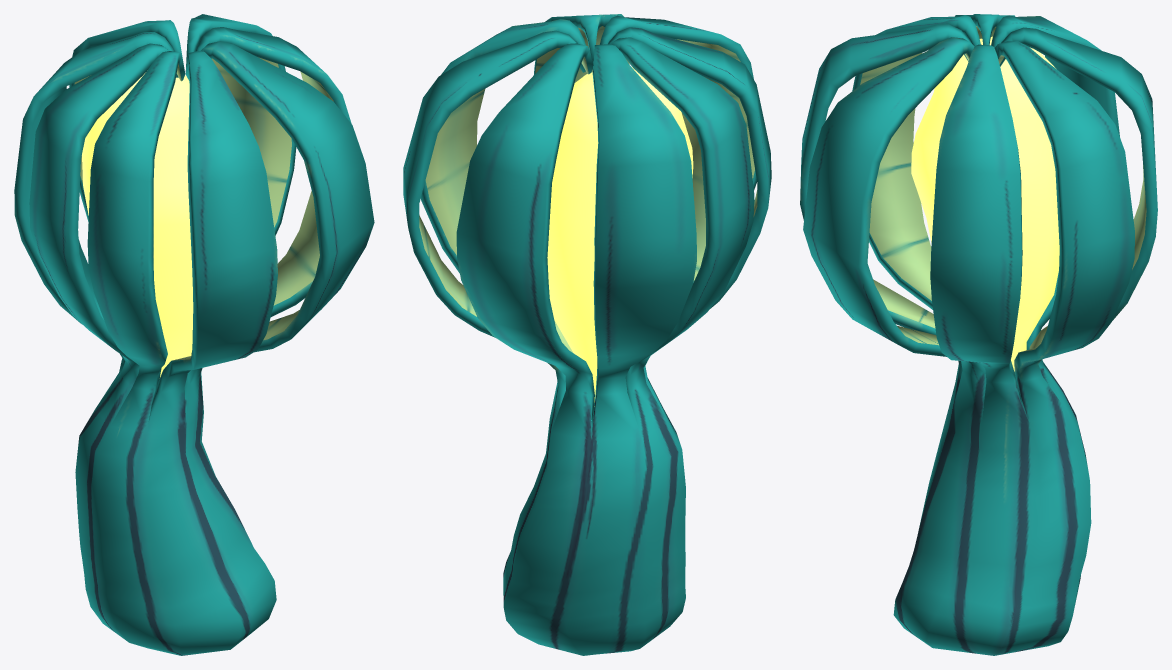
The model's file is Juvenile Tree.fbx.
3 views of the same model, side by side, from view 1: azimuth 30°, elevation 25°; view 2: azimuth 150°, elevation 25°; view 3: azimuth 270°, elevation 25° (orthographic).
Visible parts, largest first — view 1: juvenile tree, Juvenile core; view 2: juvenile tree, Juvenile core; view 3: juvenile tree, Juvenile core.
Boxes of the visible parts, x1,y1,x2,y2 form: juvenile tree: [14, 14, 374, 655]; Juvenile core: [82, 72, 193, 377]; juvenile tree: [403, 14, 771, 655]; Juvenile core: [547, 67, 693, 406]; juvenile tree: [800, 14, 1157, 655]; Juvenile core: [911, 36, 1059, 371].
Size of the model in its own units: 152 by 292 by 155.
